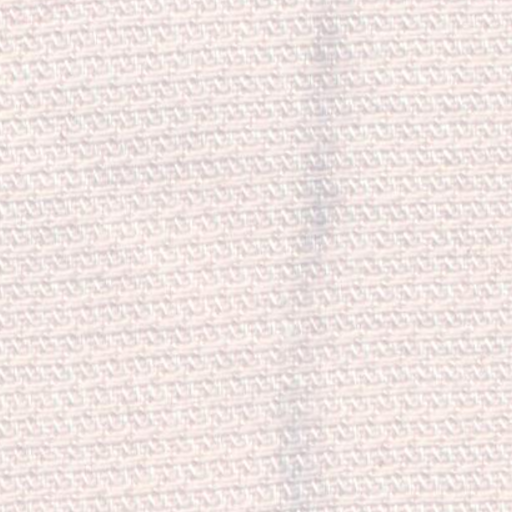WuZi: (253, 8, 374, 498)
